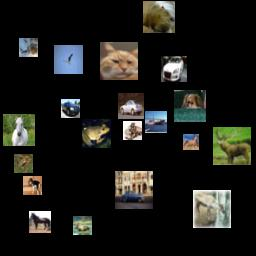automobile: (115, 171, 153, 209), (161, 56, 187, 82), (118, 93, 144, 119), (61, 99, 80, 118)
bird: (54, 45, 83, 74)
cat: (100, 42, 138, 80)
deer: (213, 127, 251, 165), (193, 190, 231, 228), (73, 216, 92, 235), (19, 38, 38, 57)
dog: (143, 1, 175, 33), (174, 90, 206, 122), (23, 176, 42, 195)
frog: (82, 119, 111, 148), (14, 154, 33, 173)
ship: (145, 111, 167, 133)
truck: (123, 121, 142, 140)
